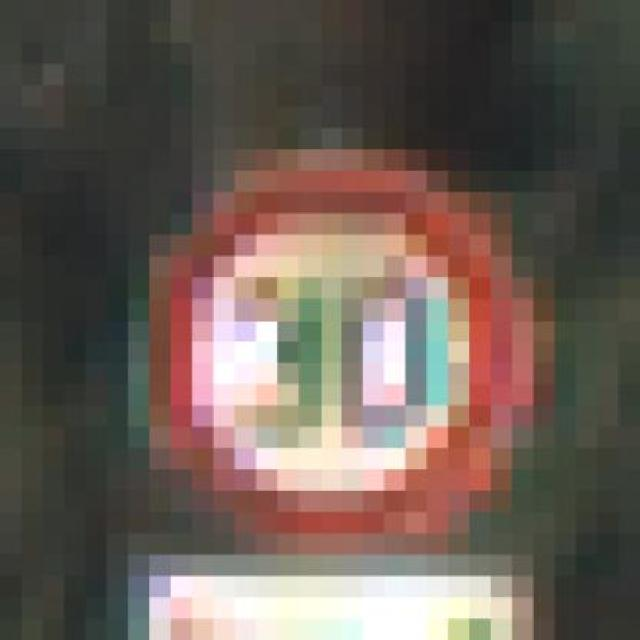Speed Limit 30 KMPh: (86, 129, 620, 576)
